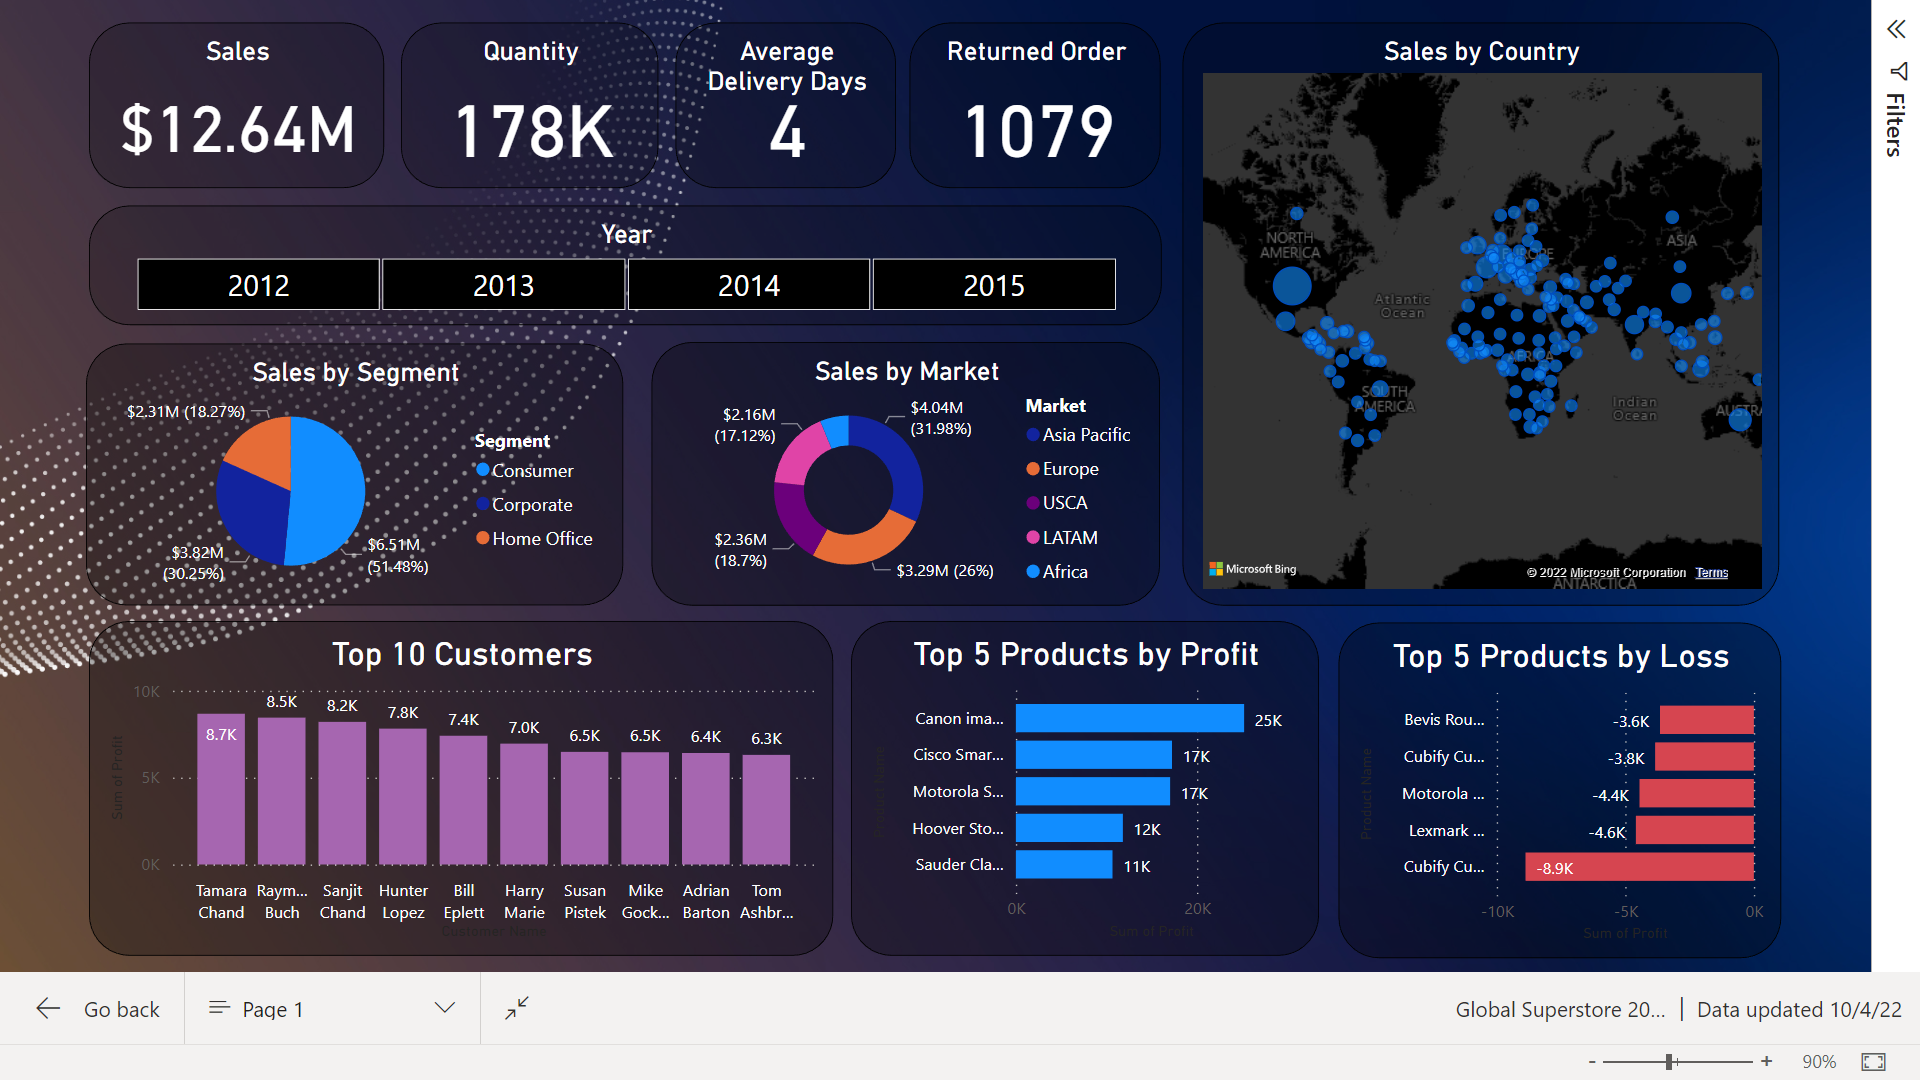

What the dashboard file says about the page in this screenshot:
{"tool":"powerbi","page":{"name":"Page 1","canvas":[1280,720],"ordinal":0},"visuals":[{"type":"card","title":"Sales","fields":{"Values":["Orders.Sales"]},"box":[12.9,16.2,218.4,123],"z":0},{"type":"card","title":"Quantity","fields":{"Values":["Orders.Quantity"]},"box":[244.3,16.2,190.9,123],"z":1000},{"type":"card","title":"Average Delivery Days","fields":{"Values":["Orders.Delivery Days"]},"box":[448.2,16.2,163.4,123],"z":2000},{"type":"slicer","title":"Year","fields":{"Values":["Orders.Year"]},"box":[12.9,152.1,794.4,89],"z":3000},{"type":"card","title":"Returned Order","fields":{"Values":["Returns.Returned Orders"]},"box":[621.3,16.2,186.1,123],"z":4000},{"type":"map","title":"Sales by Country","fields":{"Category":["Orders.Country","Orders.Region"],"Series":["Orders.Market"],"Size":["Orders.Sales"]},"box":[823.6,16.2,441.7,432],"z":5000},{"type":"barChart","title":"Top 5 Products by Profit","fields":{"Category":["Orders.Product Name"],"Y":["Orders.Profit"]},"box":[577.5,460.1,346.5,248],"z":6000},{"type":"donutChart","title":"Sales by Market","fields":{"Category":["Orders.Market"],"Y":["Orders.Sales"]},"box":[429.8,253.7,376.8,195],"z":6001},{"type":"barChart","title":"Top 5 Products by Loss","fields":{"Category":["Orders.Product Name"],"Y":["Orders.Profit"]},"box":[939.2,460.1,327.6,253.7],"z":6002},{"type":"pieChart","title":"Sales by Segment","fields":{"Category":["Orders.Segment"],"Y":["Orders.Sales"]},"box":[11.3,254,398,194.2],"z":6003},{"type":"columnChart","title":"Top 10 Customers","fields":{"Category":["Orders.Customer Name"],"Y":["Orders.Profit"]},"box":[13.3,460.1,551,248],"z":6004}]}

Visuals, with their boxes on the page's 1280x720 design canvas (x1, y1, x2, y2). These are canvas units, not pixel positions in the 1920x1080 screenshot, which may show the page scaled, cropped or inside an application window:
"Sales" card: bbox=(13, 16, 231, 139)
"Quantity" card: bbox=(244, 16, 435, 139)
"Average Delivery Days" card: bbox=(448, 16, 612, 139)
"Year" slicer: bbox=(13, 152, 807, 241)
"Returned Order" card: bbox=(621, 16, 807, 139)
"Sales by Country" map: bbox=(824, 16, 1265, 448)
"Top 5 Products by Profit" barChart: bbox=(578, 460, 924, 708)
"Sales by Market" donutChart: bbox=(430, 254, 807, 449)
"Top 5 Products by Loss" barChart: bbox=(939, 460, 1267, 714)
"Sales by Segment" pieChart: bbox=(11, 254, 409, 448)
"Top 10 Customers" columnChart: bbox=(13, 460, 564, 708)
